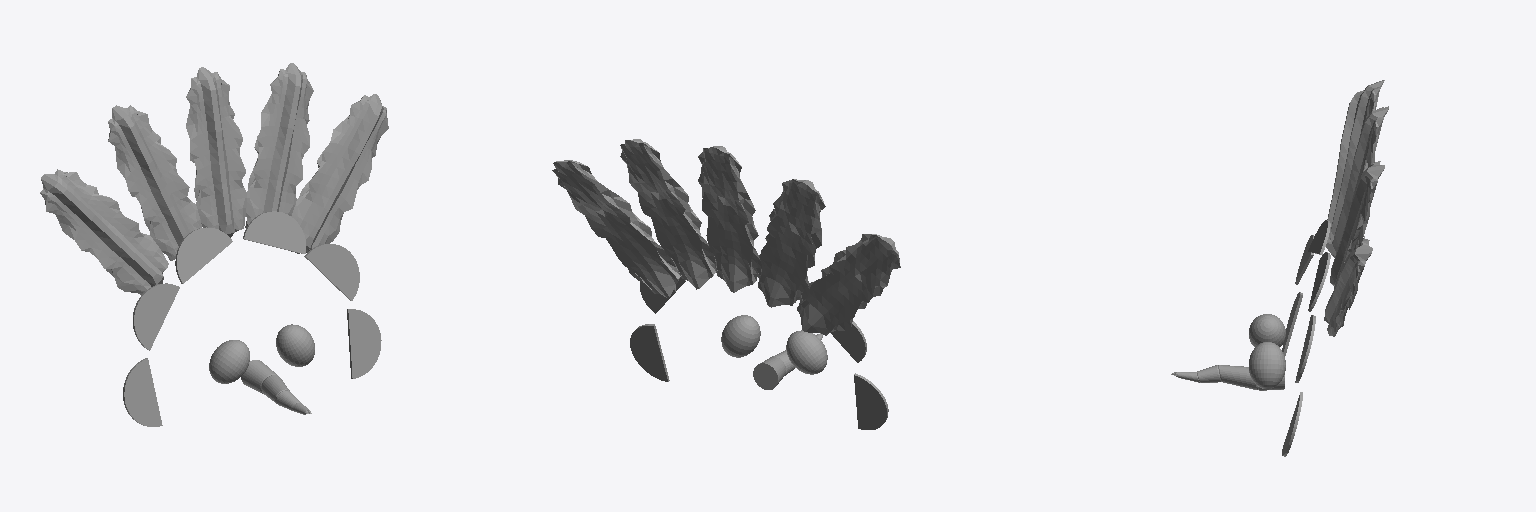
Rendered from saladhead.obj.
3 views of the same model, side by side, from view 1: azimuth 30°, elevation 25°; view 2: azimuth 150°, elevation 25°; view 3: azimuth 270°, elevation 25° (orthographic).
Parts seen in each view (by area): view 1: Cube.004; view 2: Cube.004; view 3: Cube.004.
Boxes of the visible parts, x1,y1,x2,y2 form: Cube.004: [40, 63, 388, 426]; Cube.004: [552, 139, 900, 429]; Cube.004: [1171, 80, 1388, 456].
Size of the model in its own units: 4.98 by 4.08 by 2.71.